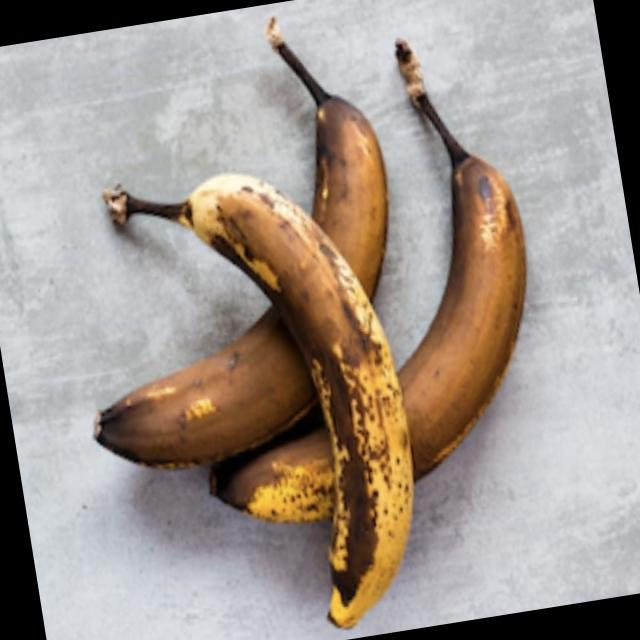rotten-banana: (116, 134, 432, 616), (184, 176, 583, 550), (69, 53, 433, 461)
